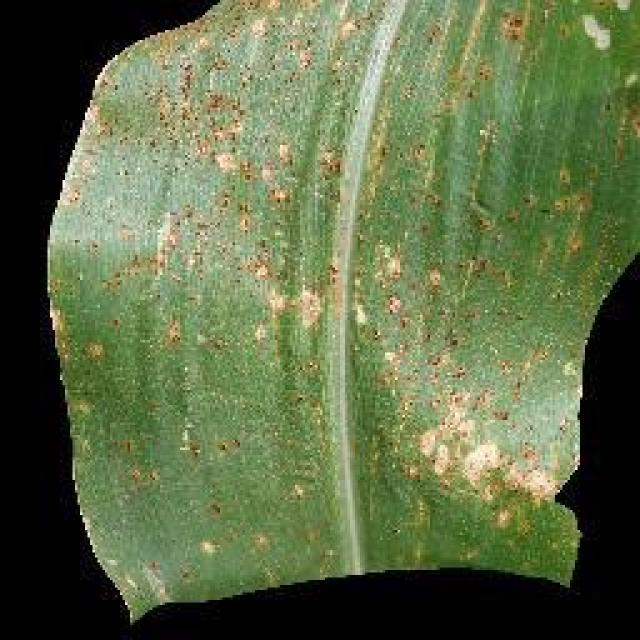Corn Common Rust: (132, 10, 550, 525)
